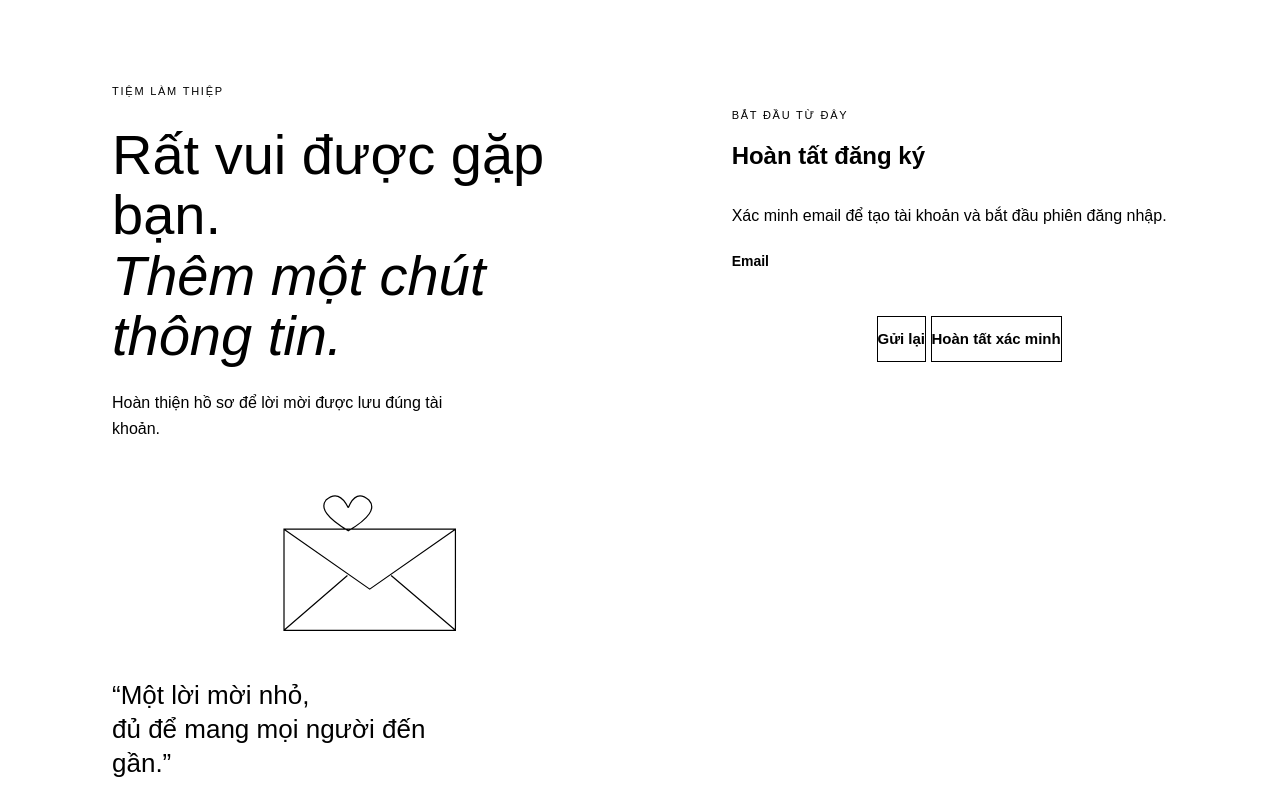
it: social onboarding UI › reads proof from the fragment, clears it and stores successful session in memory
Click the button "Hoàn tất xác minh". click: {"x": 996, "y": 339}
box: [930,316,1062,362]
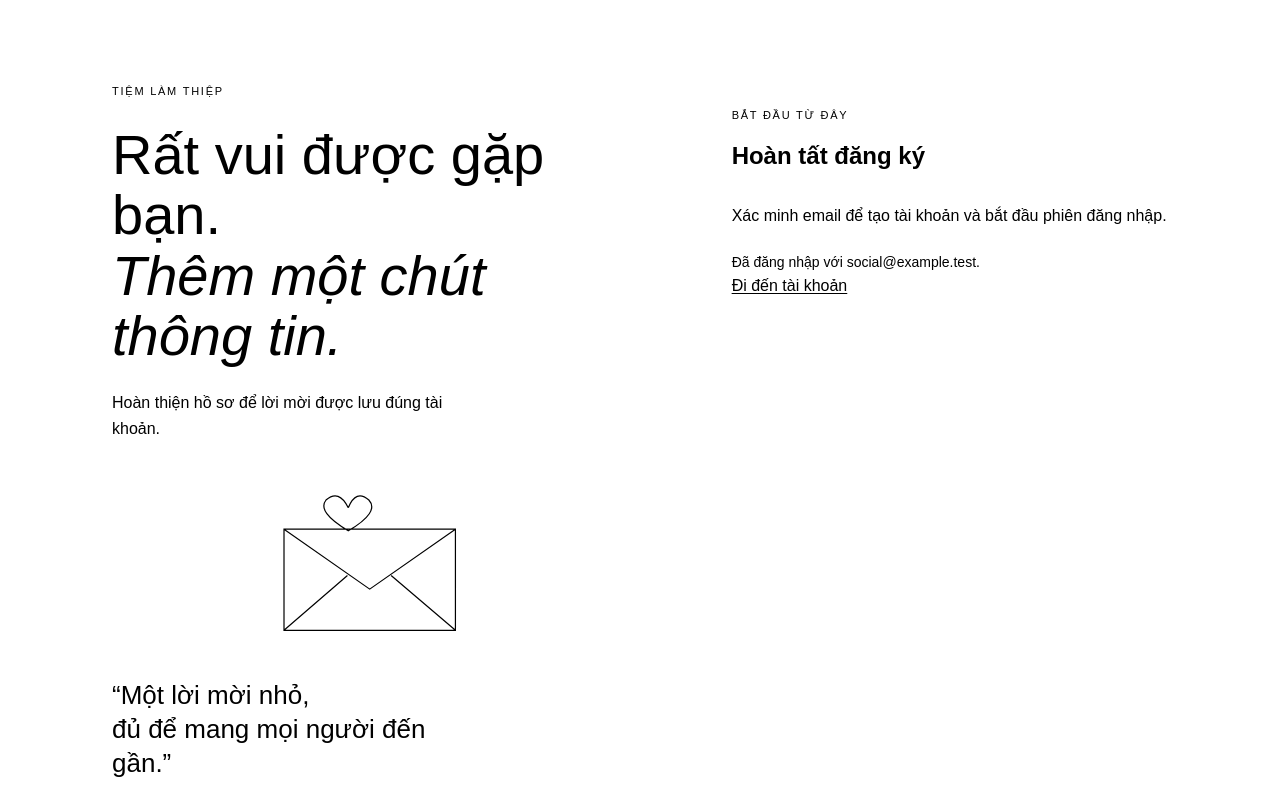
Check: the text "Đã đăng nhập với social@example.test." is shown, box [732,254,980,270]
Check: the message shows "Đã đăng nhập với", box [732,254,847,270]
